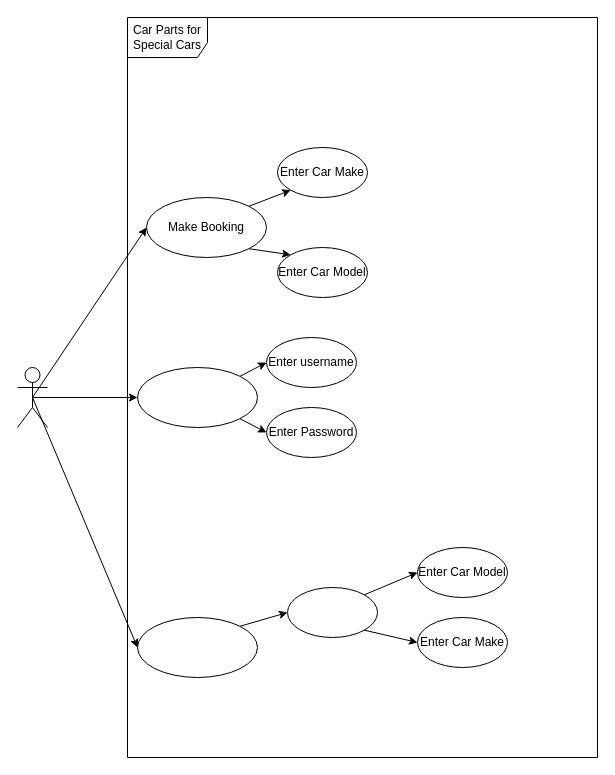
This 615x775 diagram has some shape labels left out. The shapes that lost their labels are listed below. From the top down, each one's box as (x1, y1, x2, y2) in pixels, then its label:
(16, 366, 48, 428): Client
(136, 366, 258, 428): Log in
(286, 586, 378, 638): Enter Part Number
(136, 616, 258, 678): Order Parts
